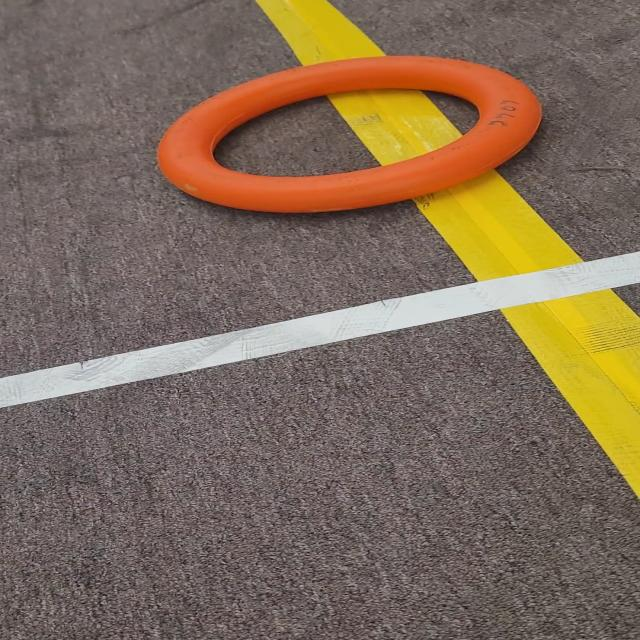note: (148, 42, 557, 227)
